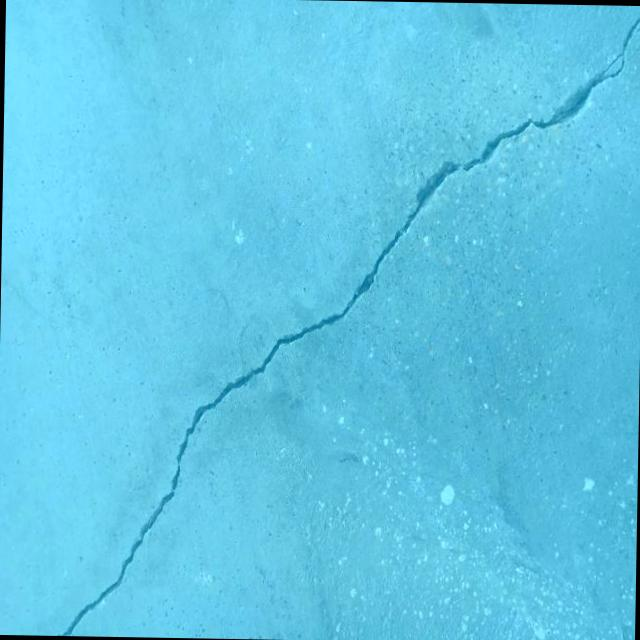crack: (56, 2, 640, 640), (627, 38, 640, 61)
